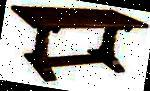Mesa: (1, 0, 149, 90)
